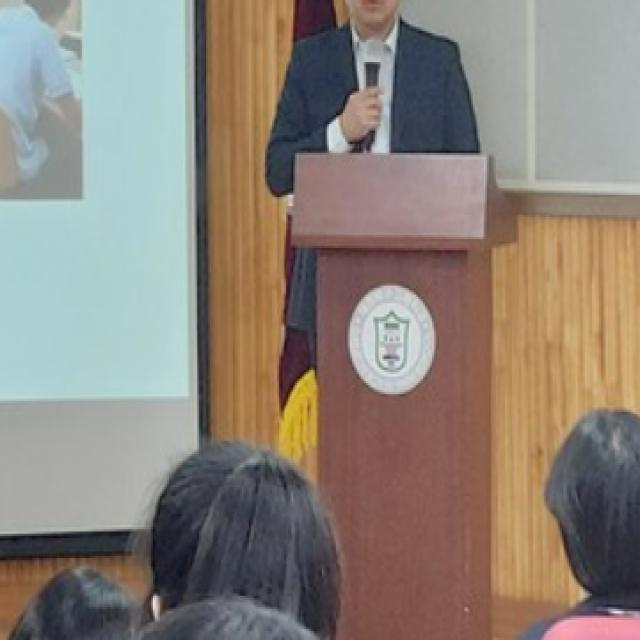logo: (342, 271, 443, 403)
